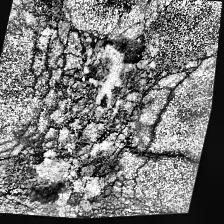pothole: (100, 28, 150, 70), (26, 174, 72, 210)
